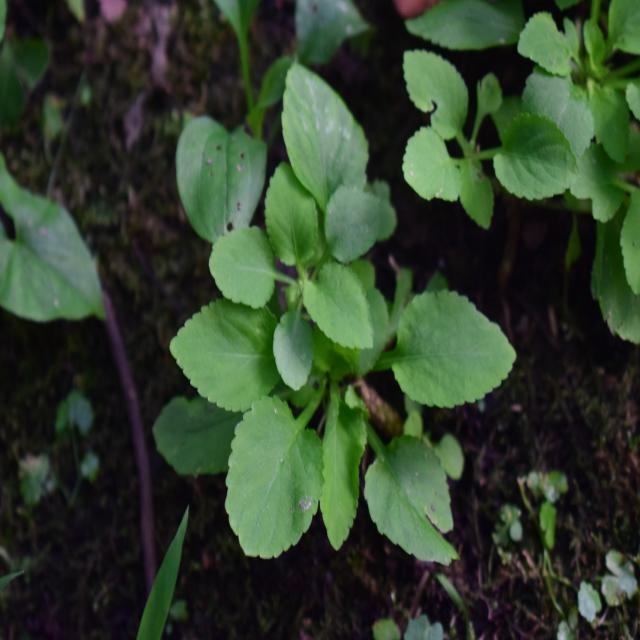Viola: (187, 100, 495, 576), (396, 20, 580, 264)
